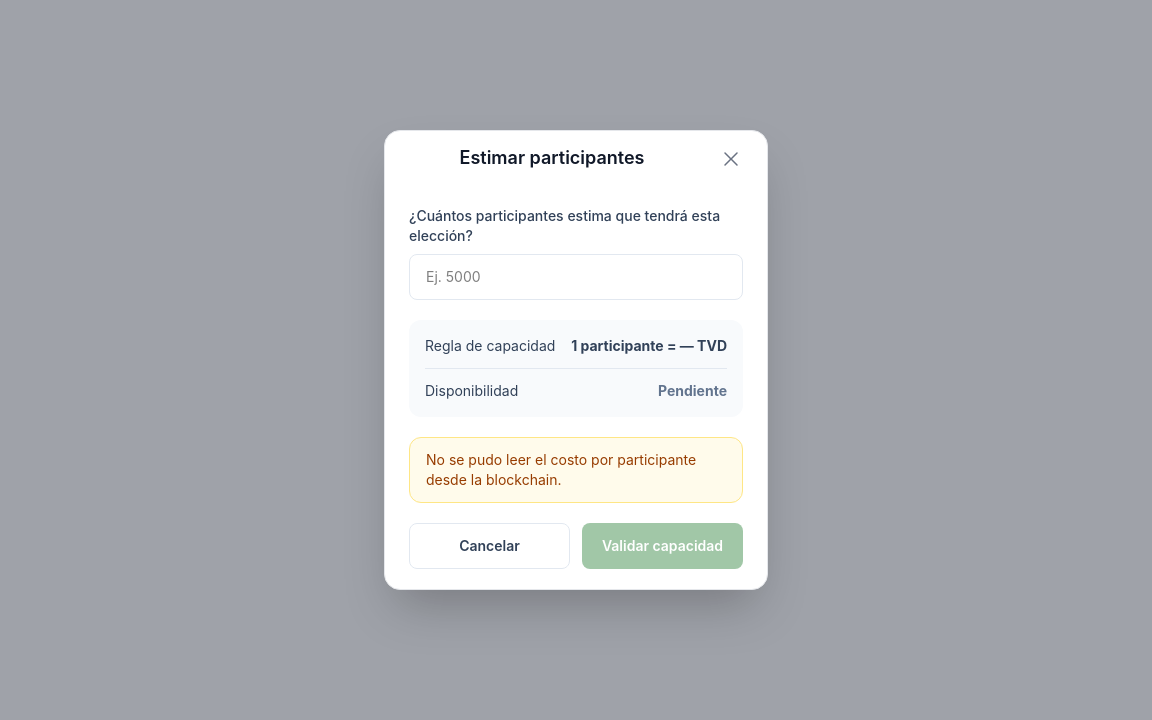
Test: Admin tenant estimate and insufficient balance modals › permite retry cuando backend o RPC no estan disponibles
The width and height of the screenshot is (1152, 720).
Step 1. Type "10" into the field labelled "¿Cuántos participantes estima que tendrá esta elección?" → {"x": 576, "y": 277}, box [409,254,743,300]
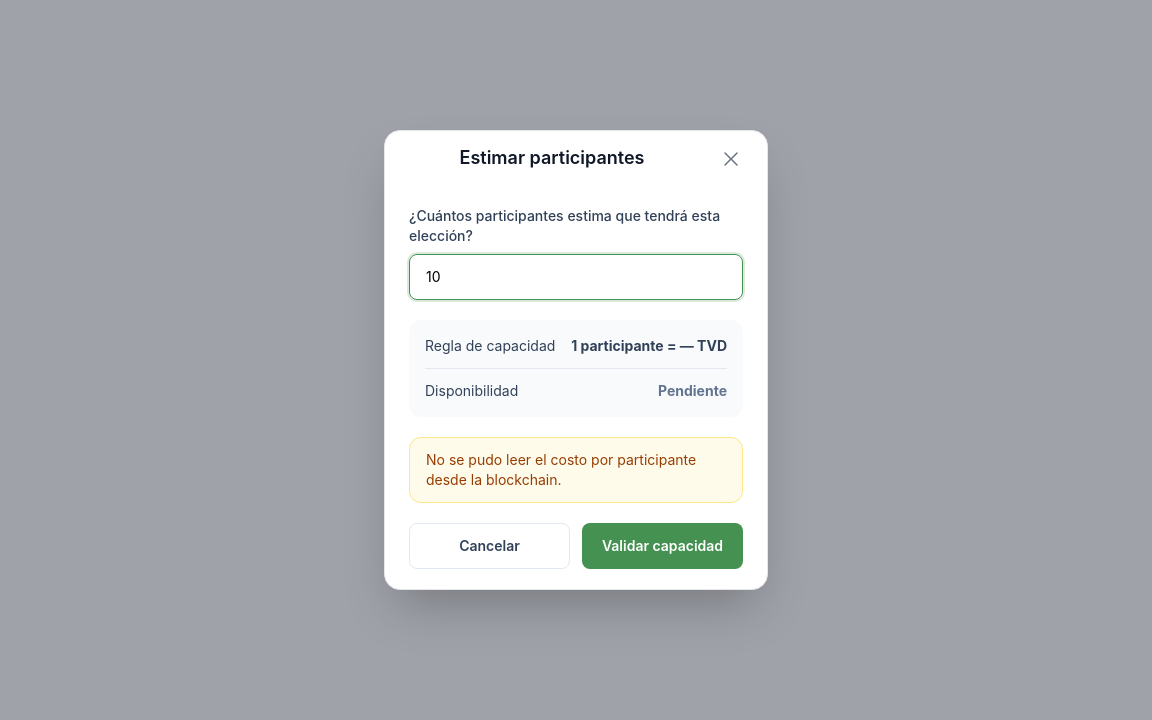
Step 2. Click the button "Validar capacidad" → {"x": 662, "y": 546}, box [582,523,743,569]
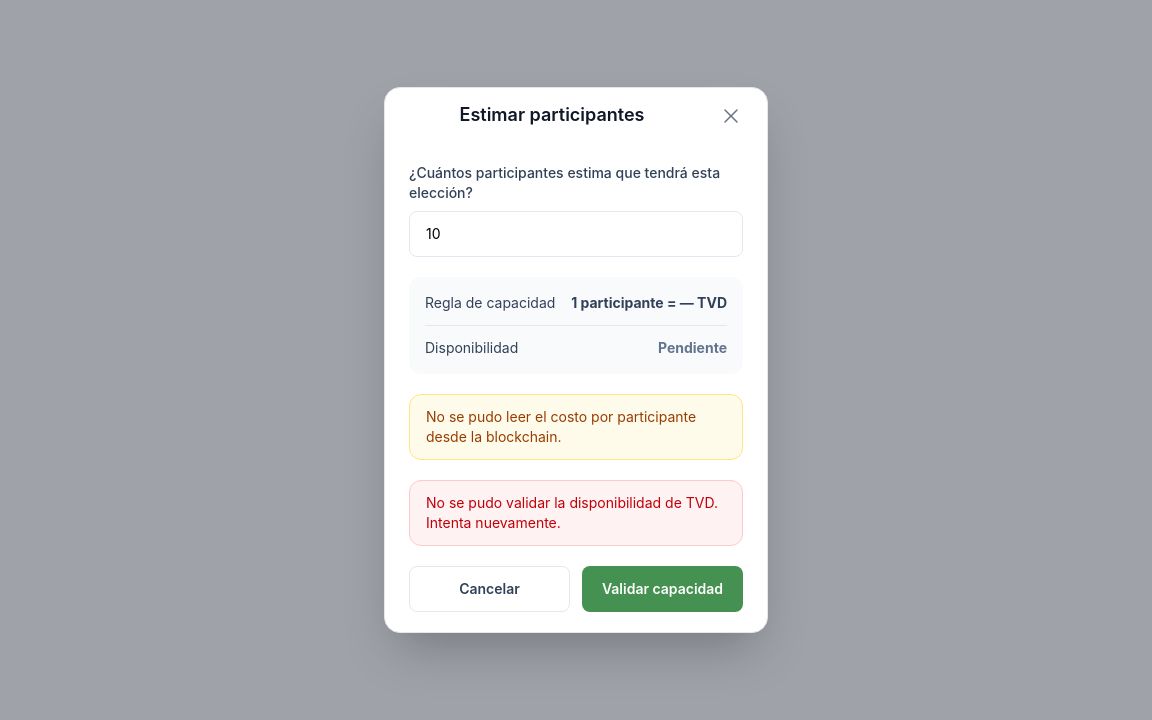
Result: the text "No se pudo validar la disponibilidad de TVD. Intenta nuevamente." is shown at [409,480,743,546]
Step 3. Click the button "Validar capacidad" → {"x": 662, "y": 589}, box [582,566,743,612]
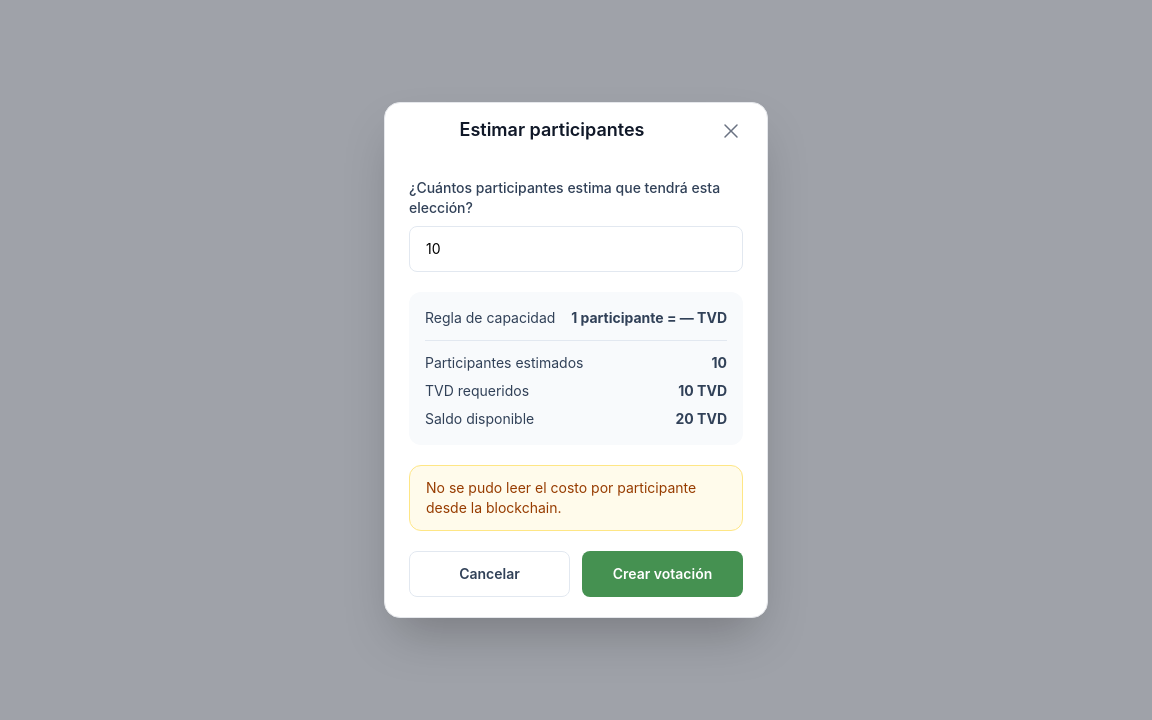
Result: the text "TVD requeridos" is shown at [425,381,529,401]
